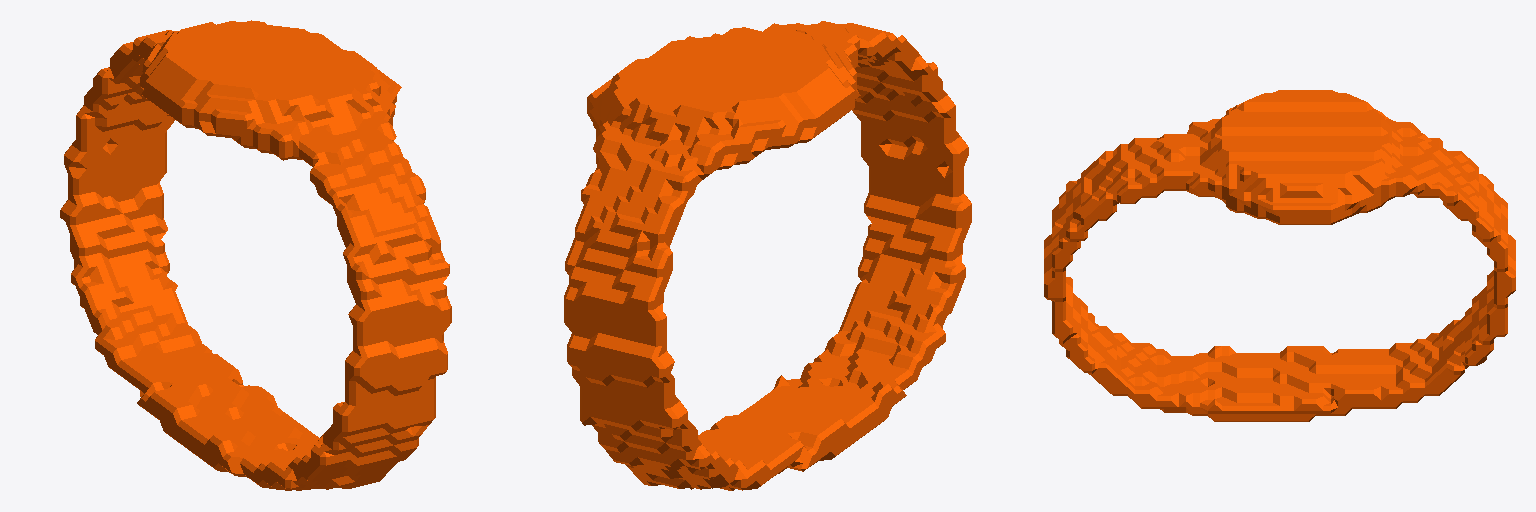
robot.urdf — Watch_9f:
<robot name="Watch_9f">
   <material name="obj_color">
      <color rgba="1.0 0.423529411765 0.0392156862745 1.0" />
   </material>
   <link name="top">
      <inertial>
         <origin rpy="0.0005053982975350313 0.000620290297762382 0.001032679741573859" xyz="0.001425295728579246 0.00163304299556045 0.007782908893732545" />
         <mass value="0.24875" />
         <inertia ixx="0.001019138056173432" ixy="-6.451894877393873e-06" ixz="-7.452888129328314e-05" iyy="0.0005167391171800586" iyz="-3.365737434145233e-05" izz="0.0006224911635177818" />
      </inertial>
      <visual>
         <origin rpy="0 0 0" xyz="0 0 0" />
         <geometry>
            <mesh filename="top_watertight_tiny.stl" scale="1 1 1" />
         </geometry>
         <material name="obj_color" />
      </visual>
      <collision>
         <origin rpy="0 0 0" xyz="0 0 0" />
         <geometry>
            <mesh filename="top_watertight_tiny.obj" scale="1 1 1" />
         </geometry>
      </collision>
   </link>
   <link name="bottom">
      <inertial>
         <origin rpy="1.633333333194242e-08 1.633333333194243e-08 1.633333333357667e-08" xyz="0.3464080000000008 0.3464080000000008 0.3464080000000008" />
         <mass value="0.0009800000000000017" />
         <inertia ixx="1.633333333248717e-08" ixy="5.447480642029219e-19" ixz="5.447480642029219e-19" iyy="1.633333333248717e-08" iyz="5.447480642029219e-19" izz="1.633333333248717e-08" />
      </inertial>
      <visual>
         <origin rpy="0 0 0" xyz="0 0 0" />
         <geometry>
            <mesh filename="bottom_watertight_tiny.stl" scale="1 1 1" />
         </geometry>
         <material name="obj_color" />
      </visual>
   </link>
   <joint name="rotation" type="revolute">
      <origin xyz="0 0 0" />
      <axis xyz="0 0 -1" />
      <parent link="bottom" />
      <child link="top" />
      <dynamics damping="1.0" friction="1.0" />
      <limit effort="0.1" velocity="0.1" lower="0" upper="0.001" />
   </joint>
</robot>

--- What the picture shows (computed from the rendered views, not written in the file) ---
Views: 3 orthographic renders of the robot side by side, from view 1: azimuth 30°, elevation 25°; view 2: azimuth 150°, elevation 25°; view 3: azimuth 270°, elevation 25°.
Robot: Watch_9f — 2 links, 1 joints (1 revolute); root link bottom; default pose: every joint at zero.
Links seen in each view (by area): view 1: top; view 2: top; view 3: top.
Link boxes in pixels (left/top/right/bottom): top: left=60, top=20, right=451, bottom=490; top: left=564, top=21, right=971, bottom=490; top: left=1044, top=90, right=1515, bottom=421.
Bounding box of the posed robot: 0.0756 × 0.1754 × 0.1241 m (x, y, z).
Meshes: 2 distinct files referenced, 1 mesh visuals loaded (1 binary STL); not drawn: 1 (reference not matched to a file when rendering).